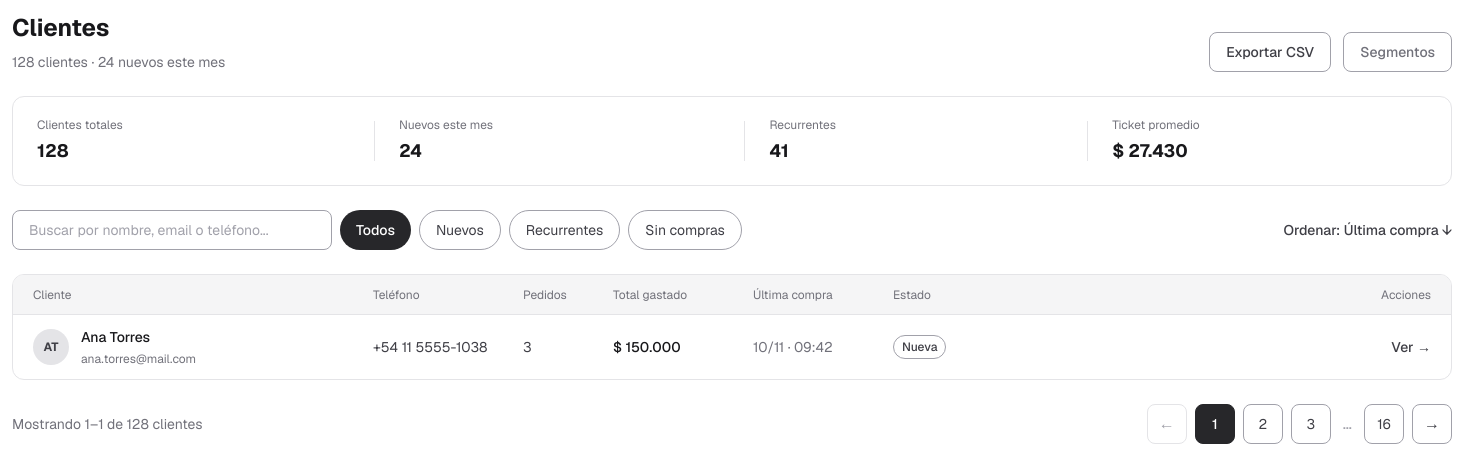
Scenario: AdminClientsWorkspace › requests the selected page through the shared pagination
Click the button "2" at (1263, 424), box left=1243, top=404, right=1283, bottom=444
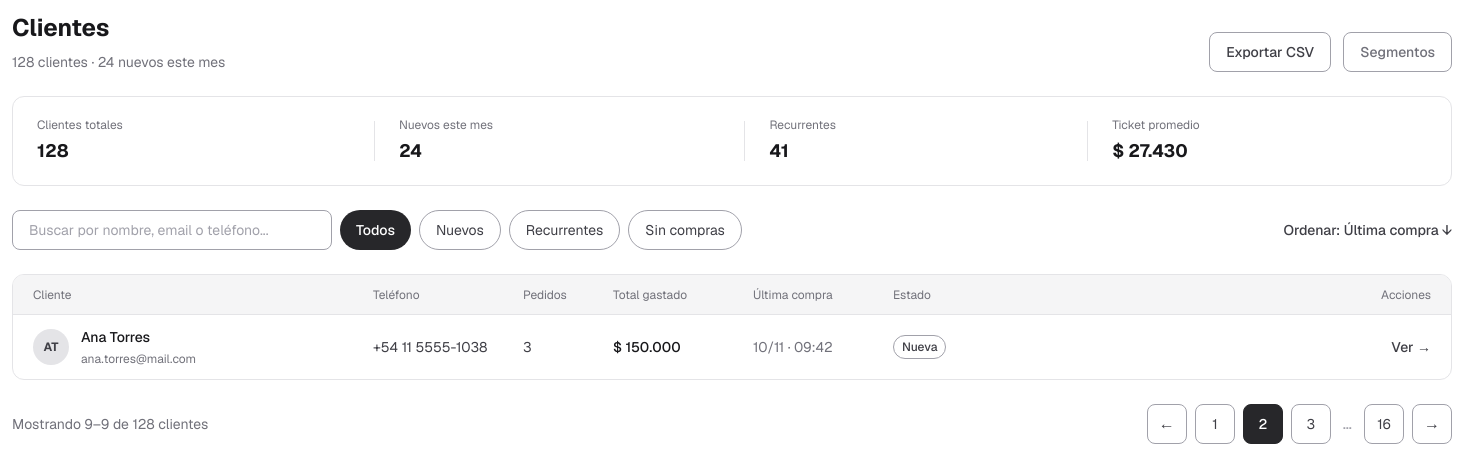
Expected: the text "Mostrando 9–9 de 128 clientes" is shown, left=12, top=414, right=208, bottom=434
